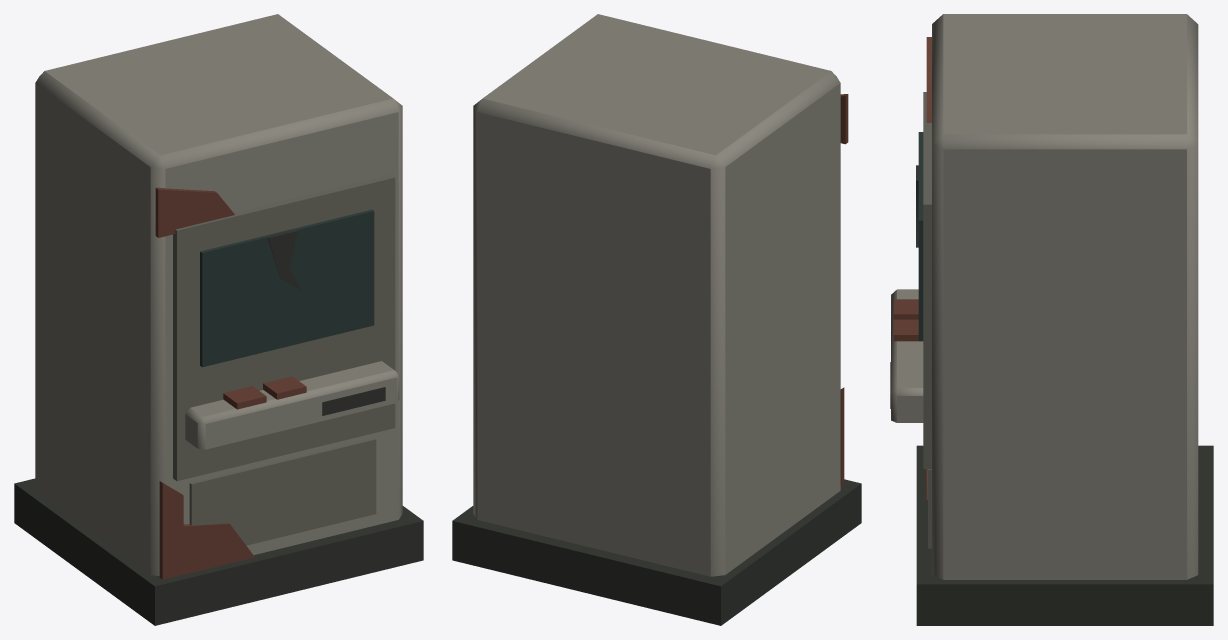
The model's file is ancient_atm.obj.
3 views of the same model, side by side, from view 1: azimuth 30°, elevation 25°; view 2: azimuth 150°, elevation 25°; view 3: azimuth 270°, elevation 25° (orthographic). The views are drawn at different scales.
Parts seen in each view (by area): view 1: atm_cabinet, retained_24, retained_36, retained_0, retained_96, keypad_shelf, retained_108, retained_128, retained_140, retained_84, retained_60, retained_72; view 2: atm_cabinet, retained_0; view 3: atm_cabinet, retained_0, retained_24, keypad_shelf, retained_36, retained_72, retained_60, retained_128.
Part boxes in pixels (x1=…): atm_cabinet: x1=35, y1=14, x2=402, y2=575; retained_24: x1=173, y1=174, x2=395, y2=481; retained_36: x1=200, y1=209, x2=374, y2=367; retained_0: x1=14, y1=478, x2=423, y2=625; retained_96: x1=189, y1=438, x2=376, y2=545; keypad_shelf: x1=185, y1=361, x2=399, y2=449; retained_108: x1=159, y1=481, x2=254, y2=579; retained_128: x1=155, y1=187, x2=234, y2=237; retained_140: x1=266, y1=230, x2=301, y2=290; retained_84: x1=322, y1=387, x2=385, y2=415; retained_60: x1=223, y1=386, x2=266, y2=409; retained_72: x1=263, y1=376, x2=306, y2=399; atm_cabinet: x1=473, y1=14, x2=840, y2=576; retained_0: x1=452, y1=479, x2=861, y2=625; atm_cabinet: x1=932, y1=14, x2=1198, y2=579; retained_0: x1=916, y1=445, x2=1213, y2=625; retained_24: x1=923, y1=92, x2=931, y2=468; keypad_shelf: x1=891, y1=289, x2=923, y2=422; retained_36: x1=918, y1=132, x2=923, y2=341; retained_72: x1=893, y1=319, x2=918, y2=341; retained_60: x1=893, y1=299, x2=918, y2=319; retained_128: x1=926, y1=37, x2=931, y2=122.
Bounding box in the file's own units: 0.64 × 1.04 × 0.631.
